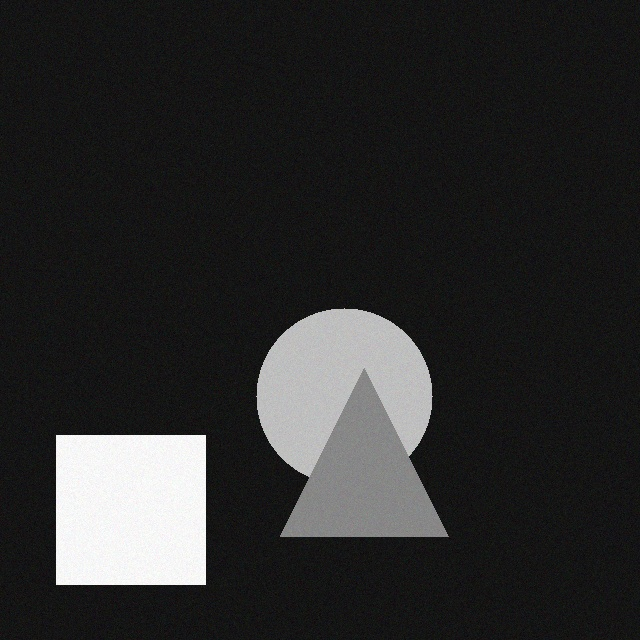circle: (258, 309, 434, 485)
square: (58, 436, 207, 585)
triangle: (282, 369, 450, 537)
